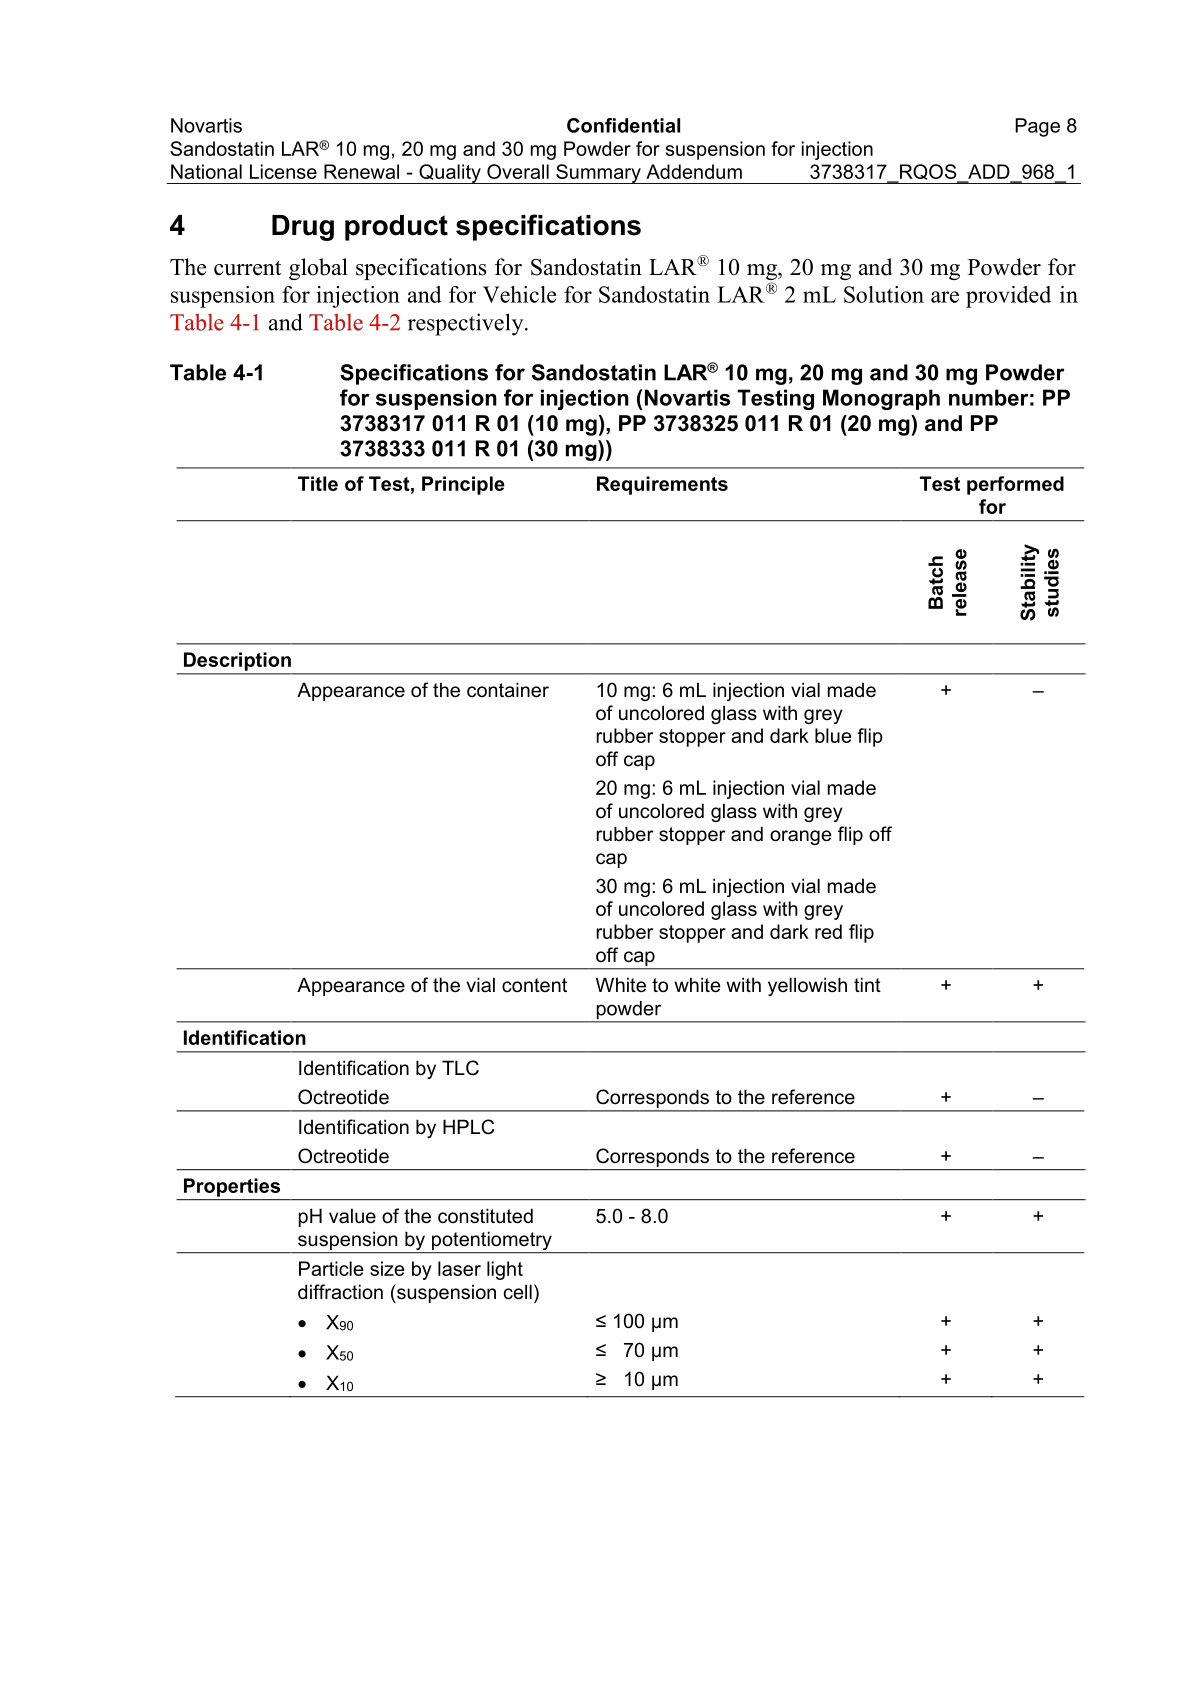partial_lined_merged_cells: (175, 466, 1085, 1401)
